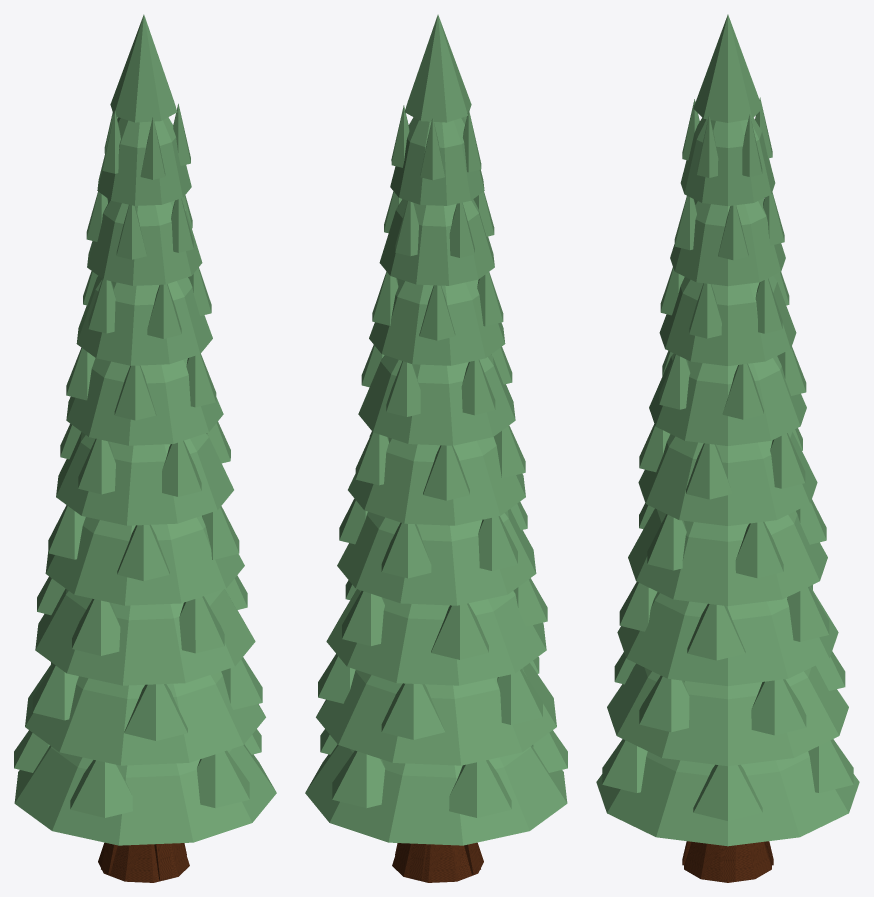
The model's file is fantasy-mmo-city-and-townsfolk-cypress-tree-f98afb44__32776.glb.
3 views of the same model, side by side, from view 1: azimuth 30°, elevation 25°; view 2: azimuth 150°, elevation 25°; view 3: azimuth 270°, elevation 25° (orthographic).
Visible parts, largest first — view 1: cypress-tree; view 2: cypress-tree; view 3: cypress-tree.
Part boxes in pixels (x1,y1,x2,y2): cypress-tree: (14, 14, 276, 882); cypress-tree: (305, 14, 567, 882); cypress-tree: (596, 14, 859, 882).
Bounding box in the file's own units: 2.28 × 8.11 × 2.28.
2 materials, 1 textured.
